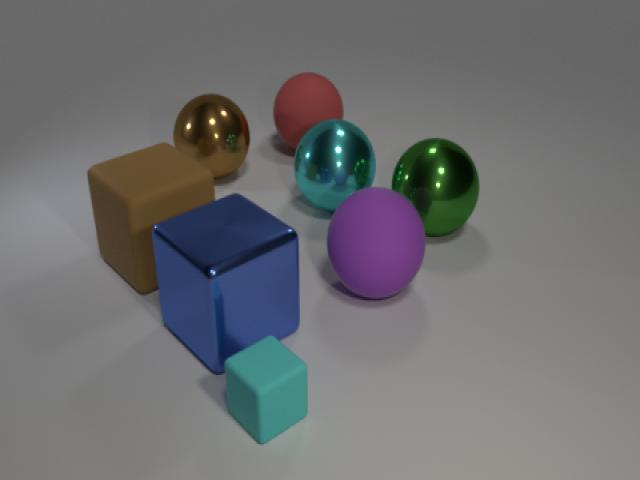round ball: (322, 183, 430, 304), (389, 134, 483, 240), (291, 116, 379, 214), (168, 89, 254, 184), (271, 70, 346, 149)
